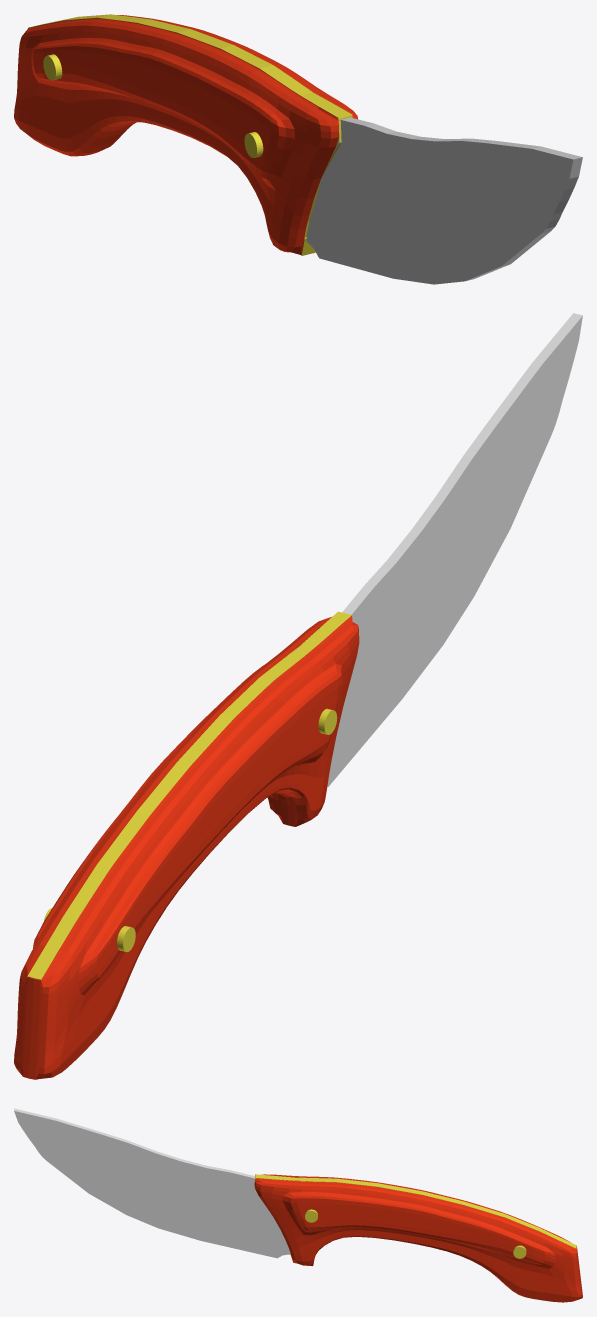
Rendered from bicakv2.fbx.
3 views of the same model, one above another, from view 1: azimuth 30°, elevation 25°; view 2: azimuth 150°, elevation 25°; view 3: azimuth 270°, elevation 25° (orthographic). The views are drawn at different scales.
Visible parts, largest first — view 1: Cylinder, Plane.002; view 2: Cylinder, Plane.002; view 3: Cylinder, Plane.002.
Part boxes in pixels (bbox=[...]): Cylinder: bbox=[14, 14, 357, 255]; Plane.002: bbox=[304, 117, 582, 284]; Cylinder: bbox=[14, 611, 359, 1079]; Plane.002: bbox=[327, 313, 582, 786]; Cylinder: bbox=[254, 1174, 582, 1302]; Plane.002: bbox=[14, 1108, 290, 1258].
Bounding box in the file's own units: 498 × 184 × 41.51.
